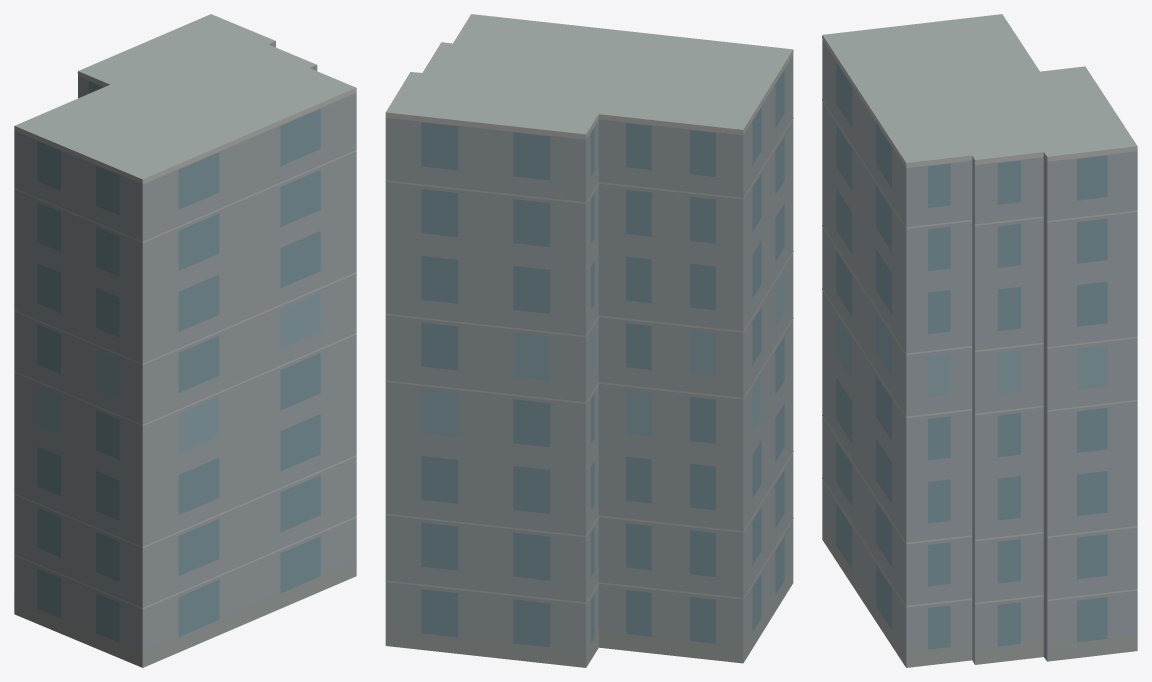
File: survey-upis-32989210.glb
3 views of the same model, side by side, from view 1: azimuth 30°, elevation 25°; view 2: azimuth 150°, elevation 25°; view 3: azimuth 270°, elevation 25° (orthographic). The views are drawn at different scales.
Parts seen in each view (by area): view 1: survey-upis-32989210.tmp; view 2: survey-upis-32989210.tmp; view 3: survey-upis-32989210.tmp.
Part boxes in pixels (x1=…): survey-upis-32989210.tmp: x1=14, y1=14, x2=356, y2=667; survey-upis-32989210.tmp: x1=385, y1=14, x2=793, y2=667; survey-upis-32989210.tmp: x1=822, y1=14, x2=1137, y2=667.
Bounding box in the file's own units: 15.48 × 24.4 × 13.83.
